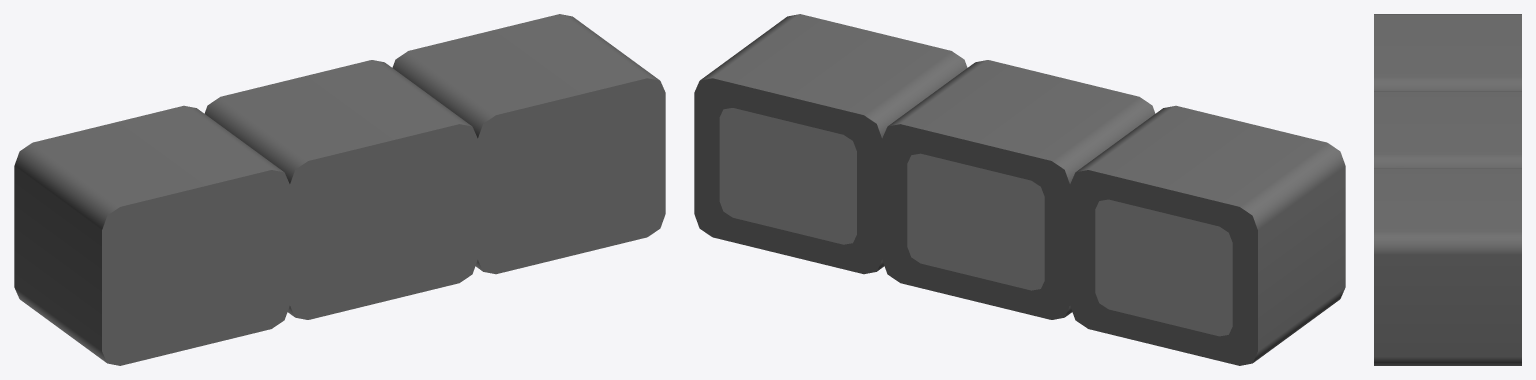
Rendered from Mesh_Battle_Match_Light_02.fbx.
The picture shows the model from 3 angles, left to right: view 1: azimuth 30°, elevation 25°; view 2: azimuth 150°, elevation 25°; view 3: azimuth 270°, elevation 25°; orthographic projection. The views are drawn at different scales.
Parts seen in each view (by area): view 1: Mesh_Battle_Match_Light_02; view 2: Mesh_Battle_Match_Light_02; view 3: Mesh_Battle_Match_Light_02.
Boxes of the visible parts, x1,y1,x2,y2 form: Mesh_Battle_Match_Light_02: (14,14,665,365); Mesh_Battle_Match_Light_02: (694,14,1345,365); Mesh_Battle_Match_Light_02: (1374,14,1521,365).
Size of the model in its own units: 822 by 222 by 222.
